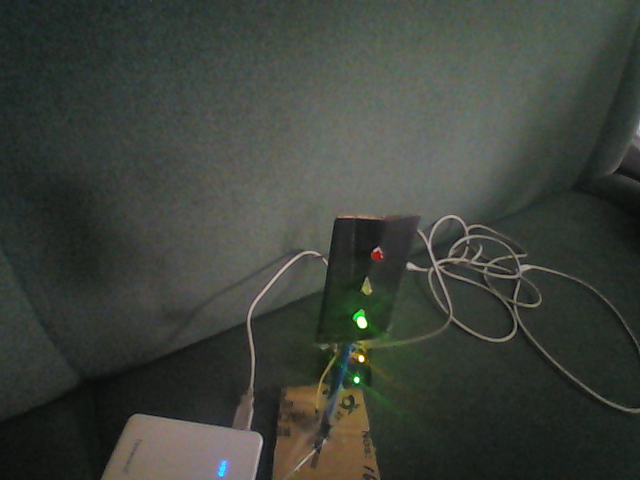green_sign: (318, 211, 423, 346)
